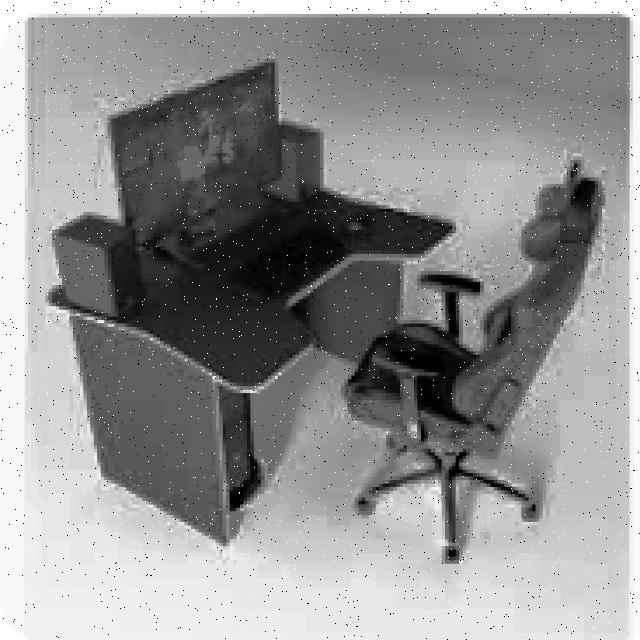book: (341, 157, 602, 560)
table: (45, 178, 456, 542)
